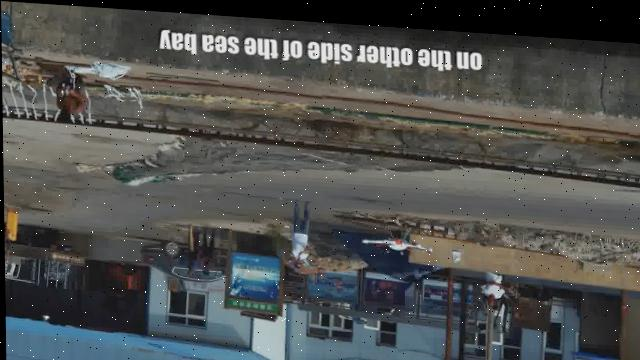drone: (359, 222, 436, 256)
